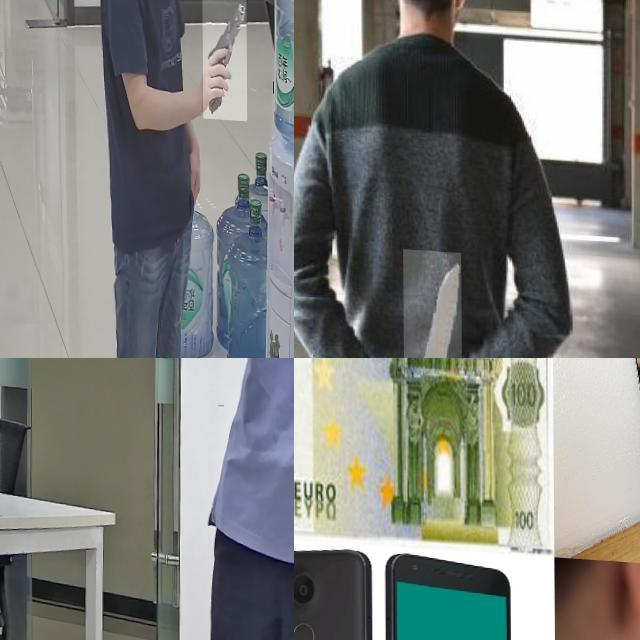-: (403, 245, 462, 358)
gun-knife-thesis - v11 Yolov5 augmented: (202, 0, 246, 114), (242, 358, 294, 420)
